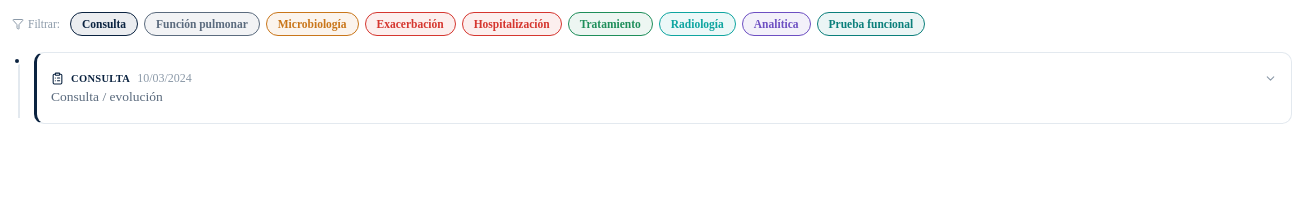
Test: TimelineTab › trunca una consulta/evolución larga con 'Ver más', y permite revelarla completa
Click the text "Consulta / evolución": (107, 96) left=51, top=89, right=163, bottom=104
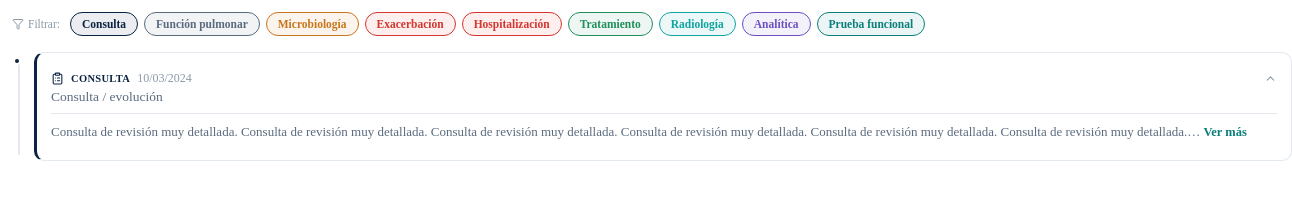
Check: the text "…" is shown, box left=1187, top=124, right=1200, bottom=139
Click the button "Ver más": (1225, 132) left=1203, top=125, right=1247, bottom=140
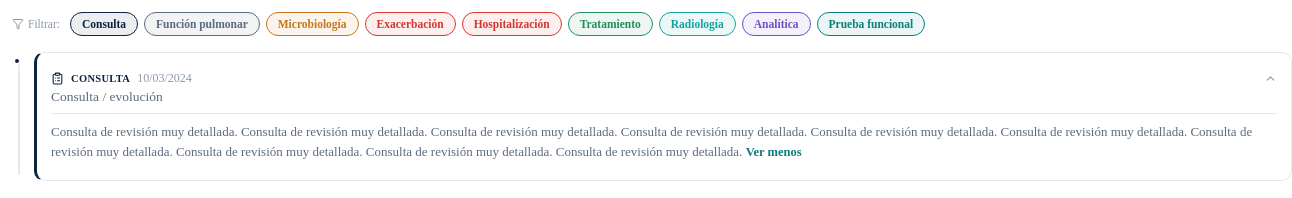
Check: the button "Ver menos" is shown, box left=746, top=145, right=802, bottom=160
